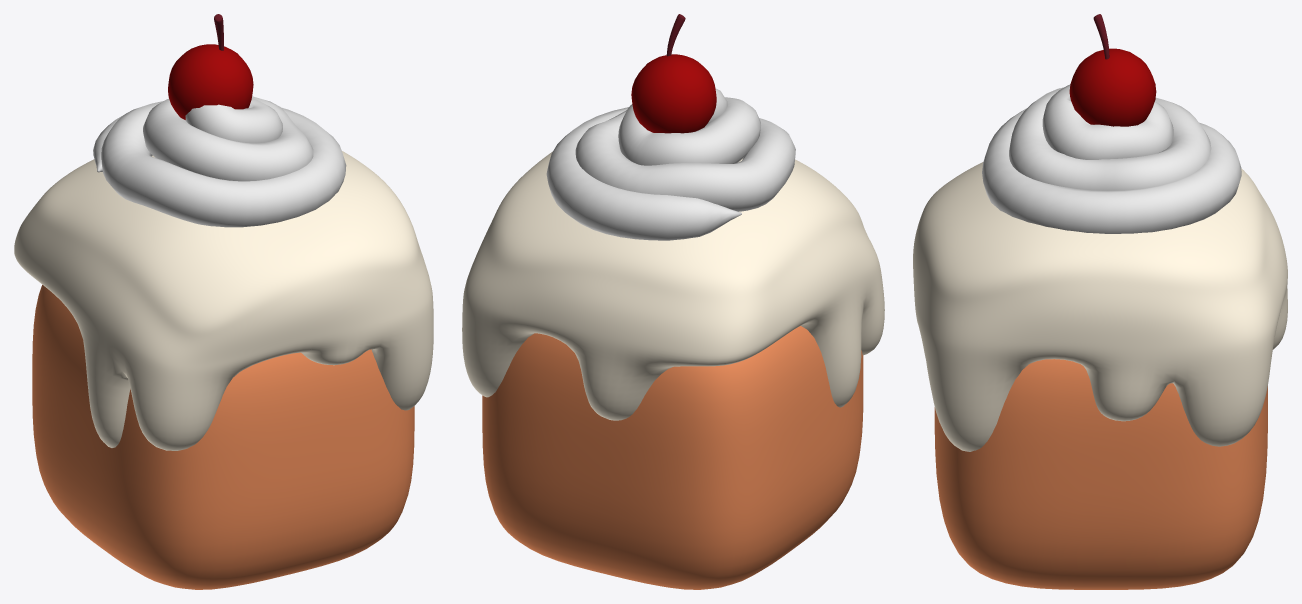
File: Square cake.fbx
3 renders of one model, left to right at view 1: azimuth 30°, elevation 25°; view 2: azimuth 150°, elevation 25°; view 3: azimuth 270°, elevation 25°, orthographic.
Visible parts, largest first — view 1: Cube.003, sCake, BezierCurve, Sphere; view 2: sCake, Cube.003, BezierCurve, Sphere; view 3: Cube.003, sCake, BezierCurve, Sphere.
Part boxes in pixels (x1,y1,x2,y2): Cube.003: [14, 151, 433, 450]; sCake: [32, 285, 414, 589]; BezierCurve: [93, 96, 346, 227]; Sphere: [168, 44, 253, 119]; sCake: [482, 326, 863, 589]; Cube.003: [462, 151, 884, 420]; BezierCurve: [546, 88, 795, 240]; Sphere: [631, 54, 716, 133]; Cube.003: [913, 162, 1287, 451]; sCake: [934, 359, 1267, 589]; BezierCurve: [982, 84, 1241, 233]; Sphere: [1069, 48, 1156, 126].
Bounding box in the file's own units: 24.76 × 40.21 × 25.52.
